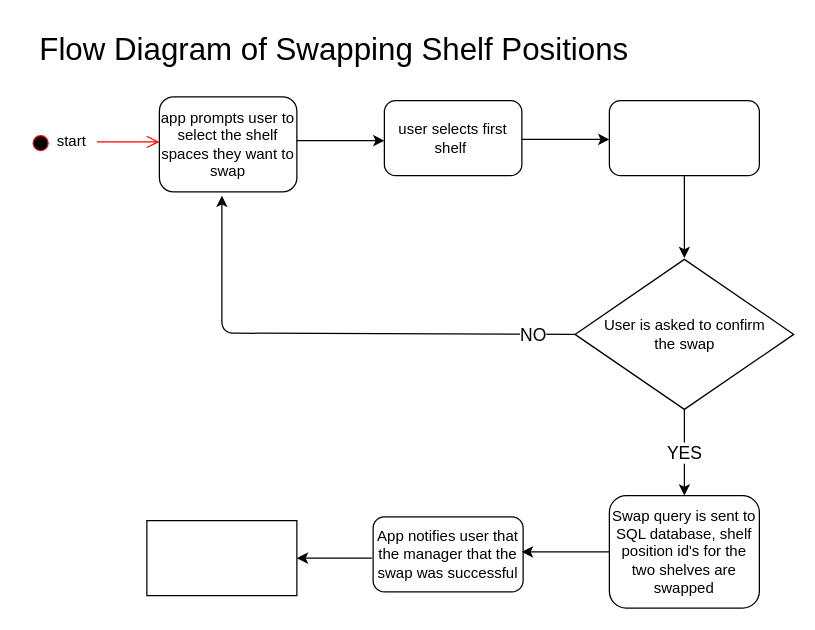
The diagram is 815 pixels wide and 630 high, and some of its shapes have lost their labels. The shapes that lost their labels are listed below. From the top down, each one's centre as x and y in pixels, then its label:
At (x=683, y=137): "user selects second shelf".
At (x=221, y=557): "End".
